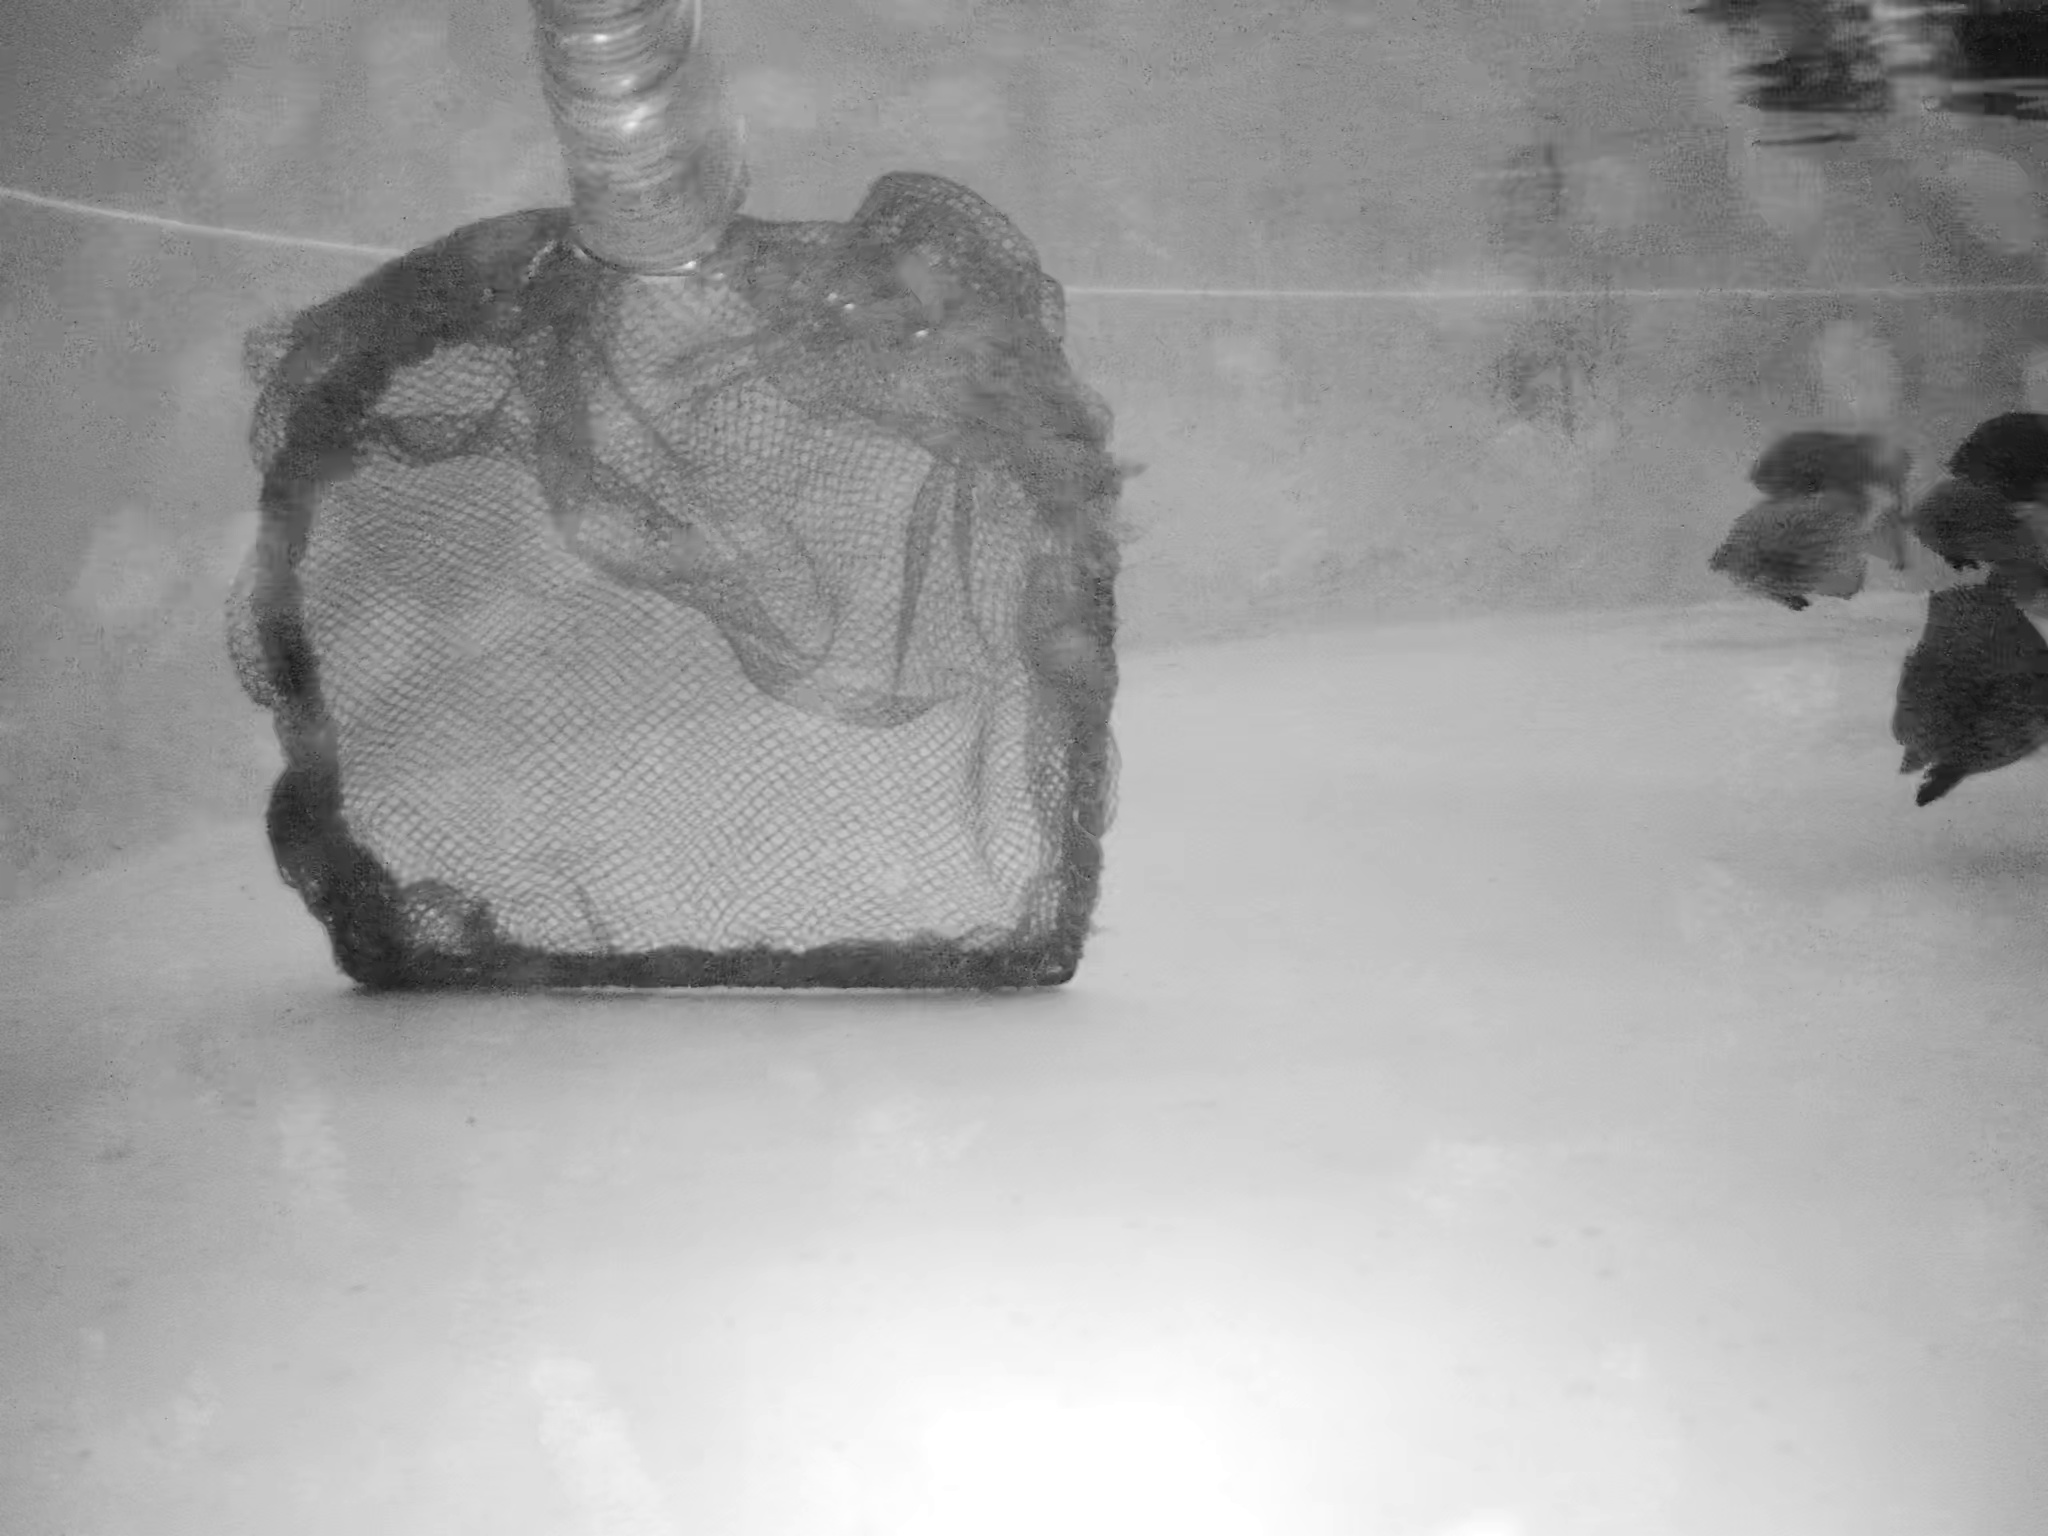fish: (1885, 582, 2048, 791), (1721, 486, 1934, 623), (1755, 421, 1916, 531), (1927, 479, 2048, 600), (1954, 400, 2048, 516)
